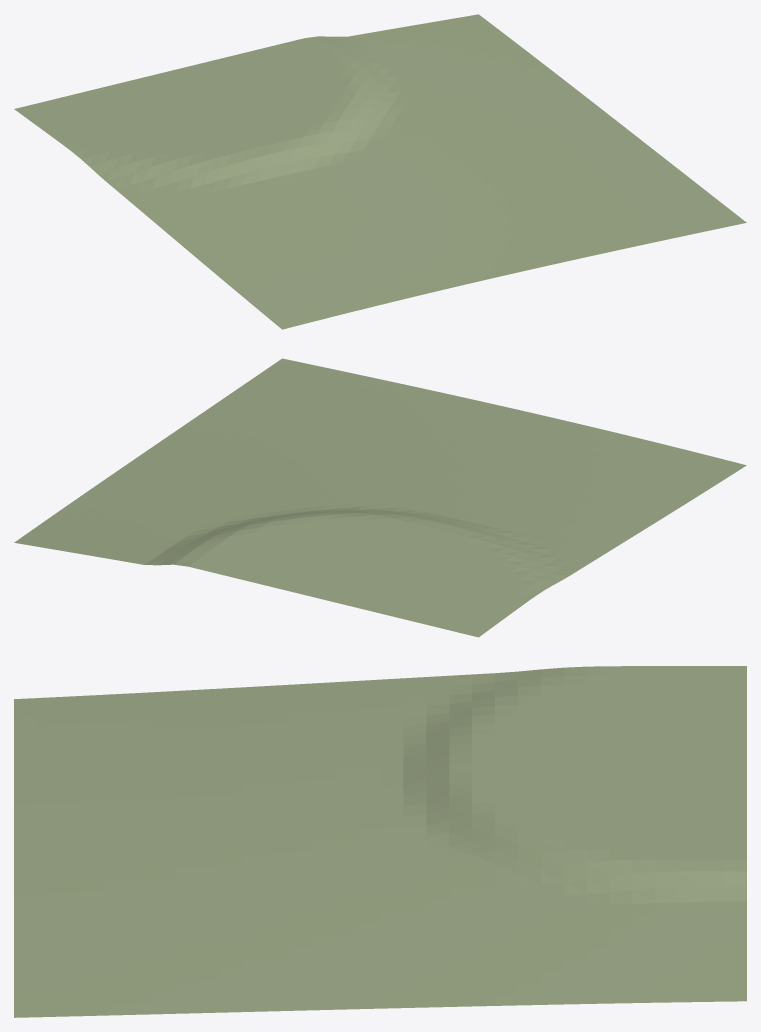
The model's file is lunar-5-5.glb.
3 renders of one model, top to bottom at view 1: azimuth 30°, elevation 25°; view 2: azimuth 150°, elevation 25°; view 3: azimuth 270°, elevation 25°, orthographic. The views are drawn at different scales.
Visible parts, largest first — view 1: lunar-5-5; view 2: lunar-5-5; view 3: lunar-5-5.
Part boxes in pixels (x1=…): lunar-5-5: x1=14, y1=14, x2=746, y2=329; lunar-5-5: x1=14, y1=358, x2=746, y2=637; lunar-5-5: x1=14, y1=666, x2=746, y2=1017.
Bounding box in the file's own units: 128 × 8.09 × 128.
